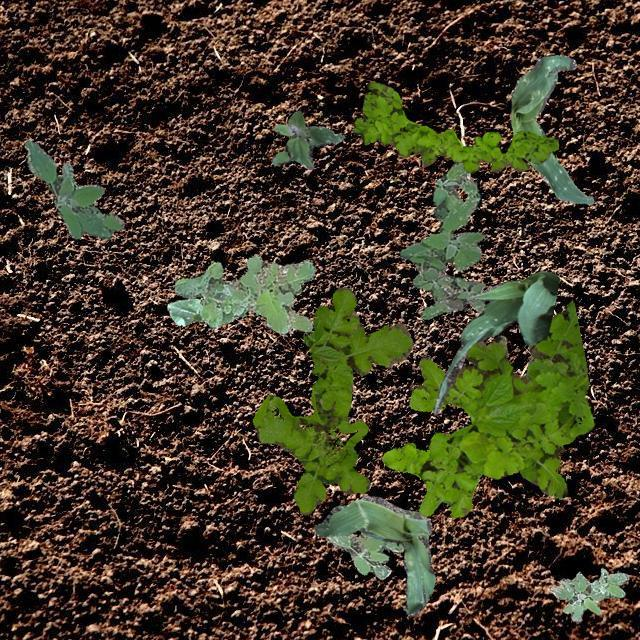crop: (432, 270, 558, 412), (314, 494, 434, 614), (510, 54, 592, 204), (166, 298, 230, 326)
weed: (380, 298, 592, 516), (252, 286, 412, 514), (352, 82, 558, 172), (400, 160, 484, 318), (174, 255, 314, 332), (23, 140, 124, 238), (270, 110, 344, 168), (550, 568, 628, 620), (324, 532, 404, 578), (526, 356, 534, 366)
